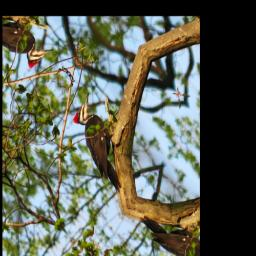Woodpecker: (58, 88, 147, 197)
